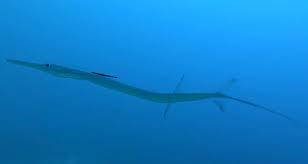Fistularia commersonii: (4, 55, 294, 121)
